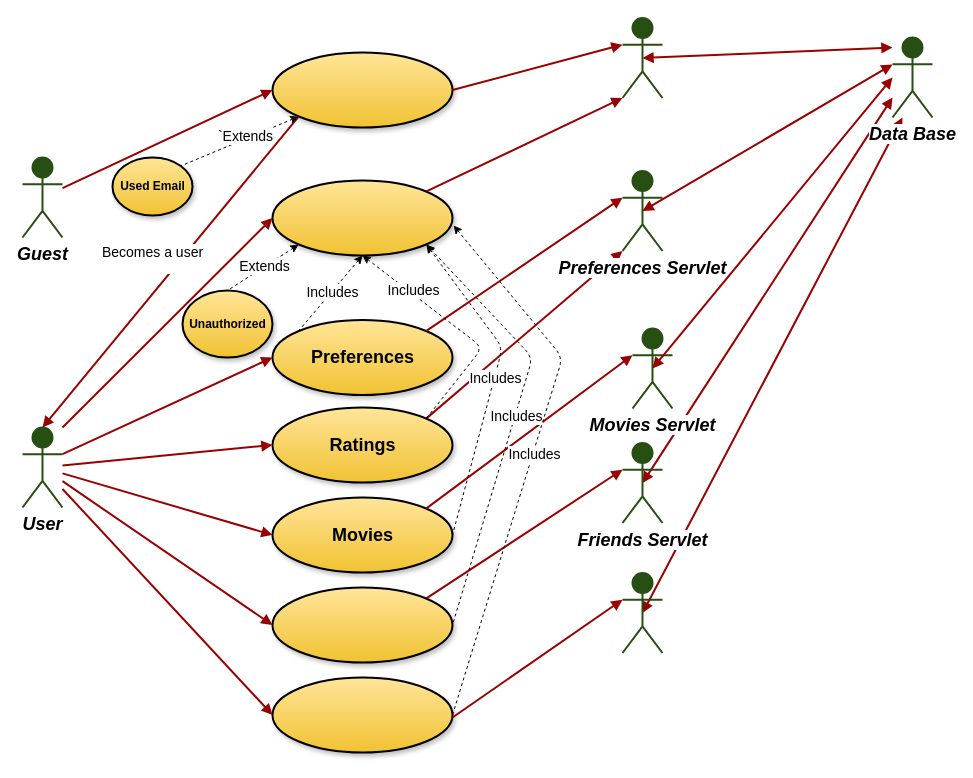
Some shapes in this 973 by 778 pixel diagram are drawn without their labels. The shapes that lost their labels are listed below. From the top down, each one's centre as x and y in pixels, then its label:
At point (642, 57): "Login Servlet".
At point (363, 91): "Register".
At point (363, 219): "Login".
At point (363, 626): "Friends".
At point (642, 613): "Notifications Servlet".
At point (363, 716): "Notifications".
